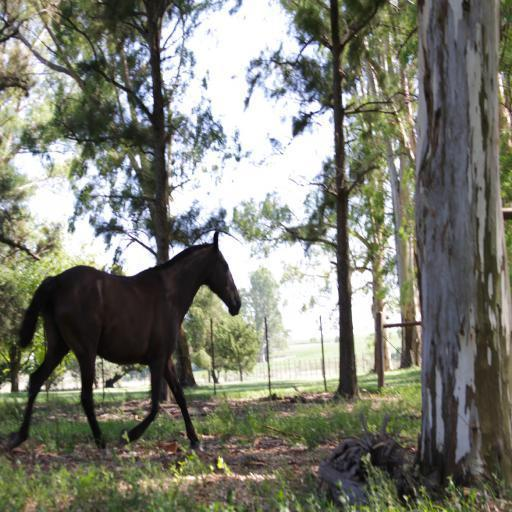horse: (6, 228, 244, 452)
